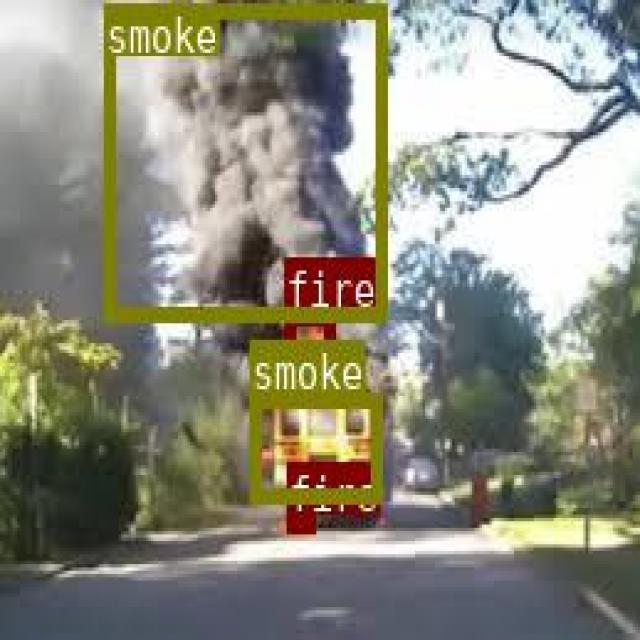fire: (283, 310, 333, 373), (287, 514, 313, 531)
smoke: (102, 2, 385, 317), (248, 393, 379, 499)
